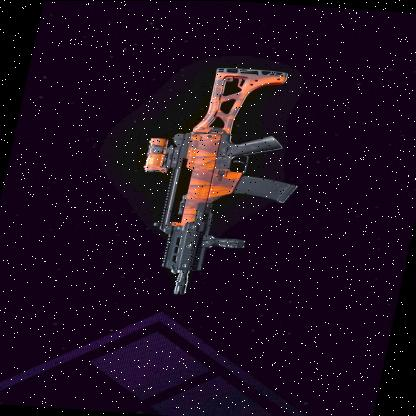rifle: (101, 49, 336, 306)
